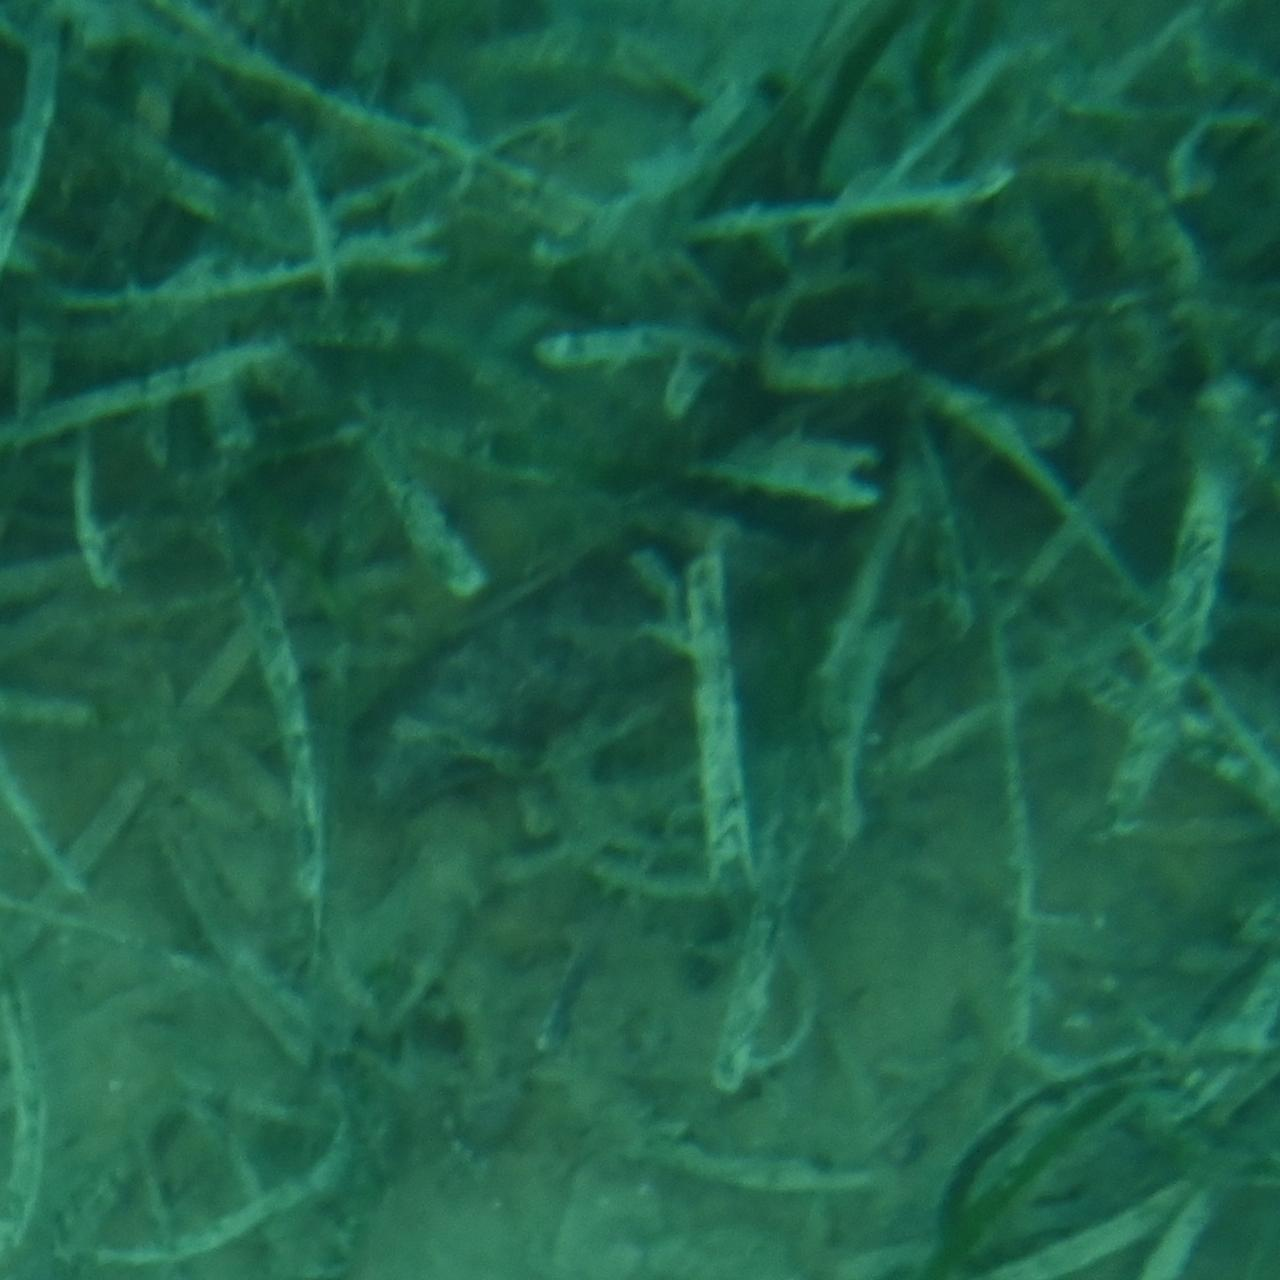Holothuria tubulosa: (338, 447, 942, 833)
